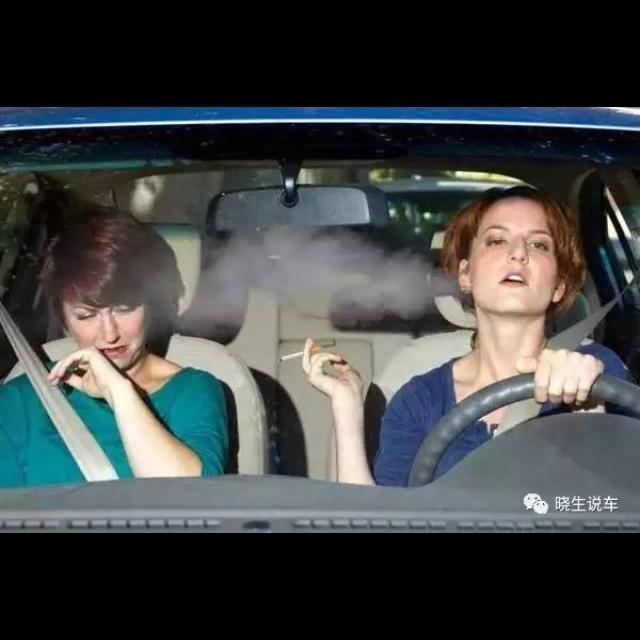rokok: (278, 346, 322, 364)
